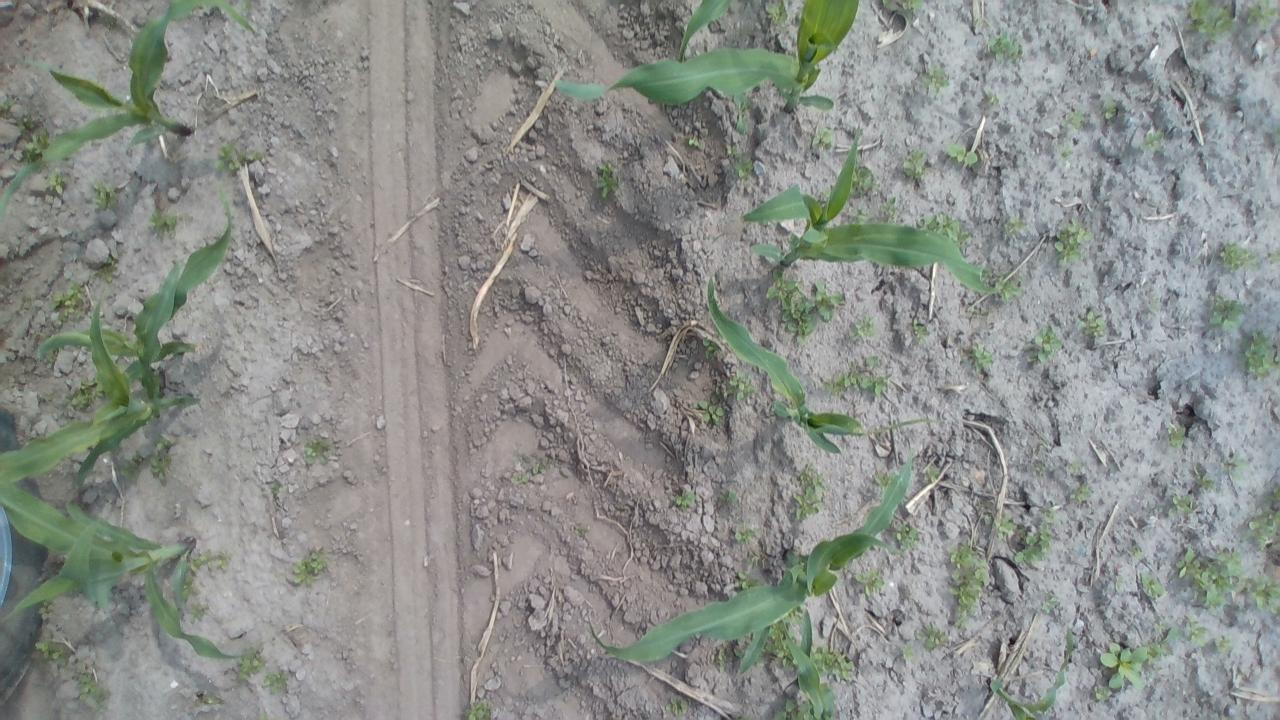Maize: (588, 444, 916, 676), (0, 1, 258, 218), (1, 469, 248, 667), (740, 123, 1001, 292), (704, 276, 944, 454), (36, 189, 234, 404), (1, 296, 200, 492), (551, 0, 863, 116), (986, 626, 1076, 720), (778, 609, 838, 720)
Weeds: (1096, 621, 1180, 695), (765, 268, 844, 344), (1174, 546, 1246, 608), (948, 539, 989, 628), (824, 354, 892, 397), (1014, 509, 1062, 565), (1182, 0, 1236, 42), (1241, 329, 1280, 382), (1247, 487, 1280, 549), (792, 464, 828, 520), (920, 211, 971, 246), (1054, 218, 1092, 264), (814, 646, 856, 682), (75, 670, 112, 710), (214, 142, 263, 170), (1210, 294, 1246, 331), (1249, 572, 1280, 614), (52, 281, 88, 317), (765, 622, 793, 668), (150, 436, 177, 483), (515, 452, 554, 484), (1032, 321, 1062, 362), (292, 552, 328, 586), (1220, 240, 1258, 272), (234, 644, 266, 682), (34, 633, 70, 665), (716, 371, 754, 401), (990, 30, 1024, 63), (68, 379, 104, 409), (1244, 0, 1280, 30), (20, 125, 50, 160), (992, 270, 1024, 302), (188, 550, 232, 572), (901, 147, 931, 179), (595, 162, 620, 198), (854, 569, 886, 597), (726, 146, 754, 178), (914, 624, 948, 650), (696, 397, 726, 426), (849, 168, 880, 196), (302, 437, 332, 465), (1079, 308, 1107, 338), (776, 698, 814, 720), (148, 212, 182, 236), (92, 181, 118, 212), (1140, 570, 1166, 600), (946, 142, 978, 166), (764, 0, 791, 27), (894, 520, 920, 548), (118, 453, 144, 481), (734, 92, 752, 132), (850, 314, 877, 340), (1222, 452, 1248, 479), (94, 256, 120, 283), (44, 168, 70, 194), (922, 66, 948, 92), (811, 122, 836, 148), (462, 700, 494, 720), (1139, 129, 1165, 153), (263, 669, 290, 692), (1168, 493, 1192, 518), (968, 346, 994, 369), (673, 486, 697, 510), (1184, 620, 1208, 644), (991, 514, 1016, 537), (1166, 422, 1188, 448), (665, 694, 692, 715), (1004, 213, 1027, 237), (1070, 482, 1096, 503), (1061, 108, 1086, 129), (732, 526, 758, 546), (910, 319, 930, 344), (1038, 590, 1058, 614), (874, 470, 896, 491), (185, 602, 208, 622), (713, 646, 730, 672), (183, 576, 201, 600), (880, 196, 899, 218), (701, 337, 720, 359), (735, 570, 755, 590), (1194, 470, 1216, 488), (1092, 683, 1114, 701), (1100, 98, 1118, 120), (982, 90, 1001, 109), (784, 606, 804, 624), (720, 489, 739, 507), (196, 692, 220, 706), (1212, 637, 1234, 652), (900, 643, 916, 663), (748, 549, 765, 567), (1126, 543, 1144, 559), (924, 466, 940, 484), (899, 0, 922, 12), (1068, 459, 1084, 476), (852, 212, 871, 226), (572, 523, 589, 538), (38, 601, 56, 615), (684, 134, 701, 148), (1266, 250, 1280, 266), (1060, 146, 1074, 160), (18, 112, 32, 126), (1034, 462, 1048, 476), (0, 96, 13, 110), (1149, 296, 1161, 310), (734, 646, 746, 659), (972, 16, 984, 27), (1274, 126, 1280, 148), (45, 350, 56, 362), (272, 481, 282, 492), (734, 713, 749, 720), (42, 394, 52, 404), (881, 0, 891, 5)
